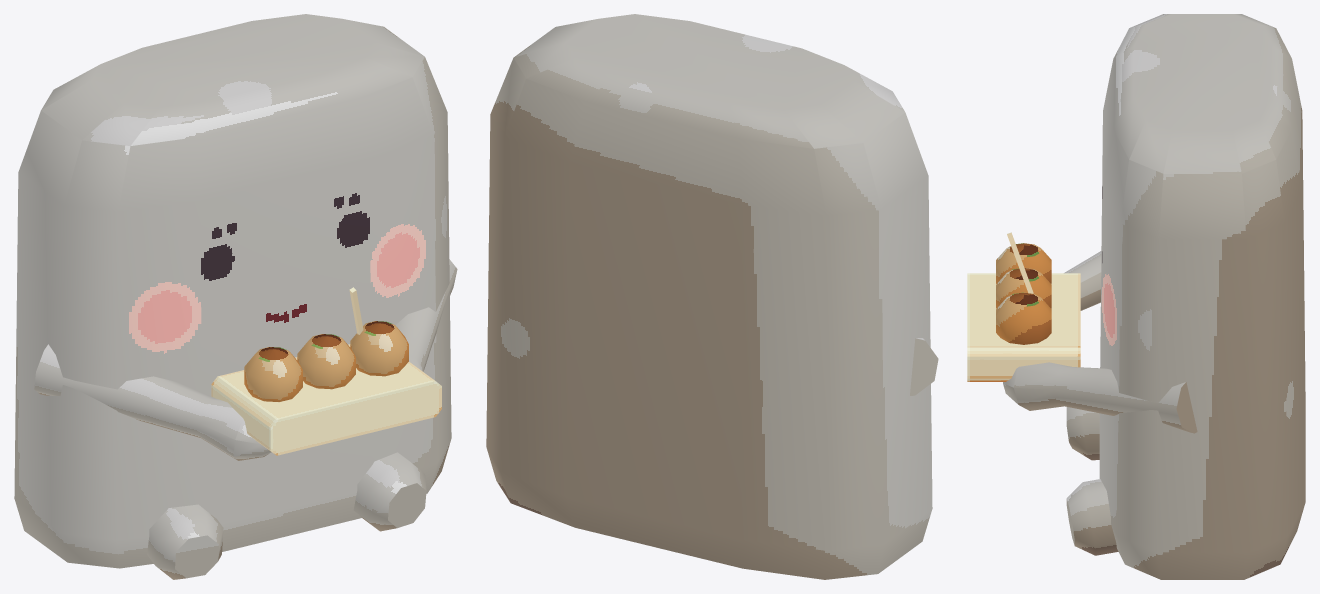
File: nurikabe.glb
3 renders of one model, left to right at view 1: azimuth 30°, elevation 25°; view 2: azimuth 150°, elevation 25°; view 3: azimuth 270°, elevation 25°, orthographic. The views are drawn at different scales.
Visible parts, largest first — view 1: wall, boat, armL, legL, legR, tako0, tako1, tako2, armR; view 2: wall, armL; view 3: wall, boat, armR, legR, tako2, legL, tako0, tako1, armL.
Part boxes in pixels (left/top/right/bottom): wall: left=14, top=14, right=451, bottom=568; boat: left=211, top=344, right=441, bottom=455; armL: left=34, top=344, right=271, bottom=460; legL: left=147, top=504, right=223, bottom=579; legR: left=353, top=452, right=426, bottom=531; tako0: left=244, top=347, right=302, bottom=401; tako1: left=297, top=334, right=355, bottom=389; tako2: left=350, top=321, right=408, bottom=376; armR: left=395, top=259, right=457, bottom=371; wall: left=486, top=14, right=932, bottom=579; armL: left=910, top=338, right=938, bottom=395; wall: left=1099, top=14, right=1305, bottom=579; boat: left=967, top=273, right=1080, bottom=381; armR: left=1003, top=362, right=1197, bottom=433; legR: left=1066, top=479, right=1118, bottom=555; tako2: left=996, top=292, right=1051, bottom=344; legL: left=1066, top=407, right=1099, bottom=460; tako0: left=996, top=243, right=1051, bottom=283; tako1: left=996, top=268, right=1051, bottom=308; armL: left=1064, top=251, right=1101, bottom=310.
Size of the model in its own units: 27.04 by 27.58 by 19.7.
Materials: 1 (1 with a texture image).
